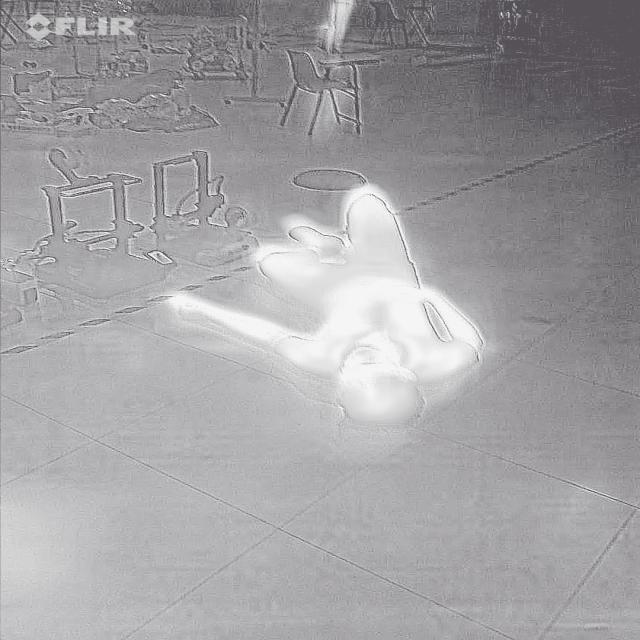Victim: (157, 190, 489, 428)
